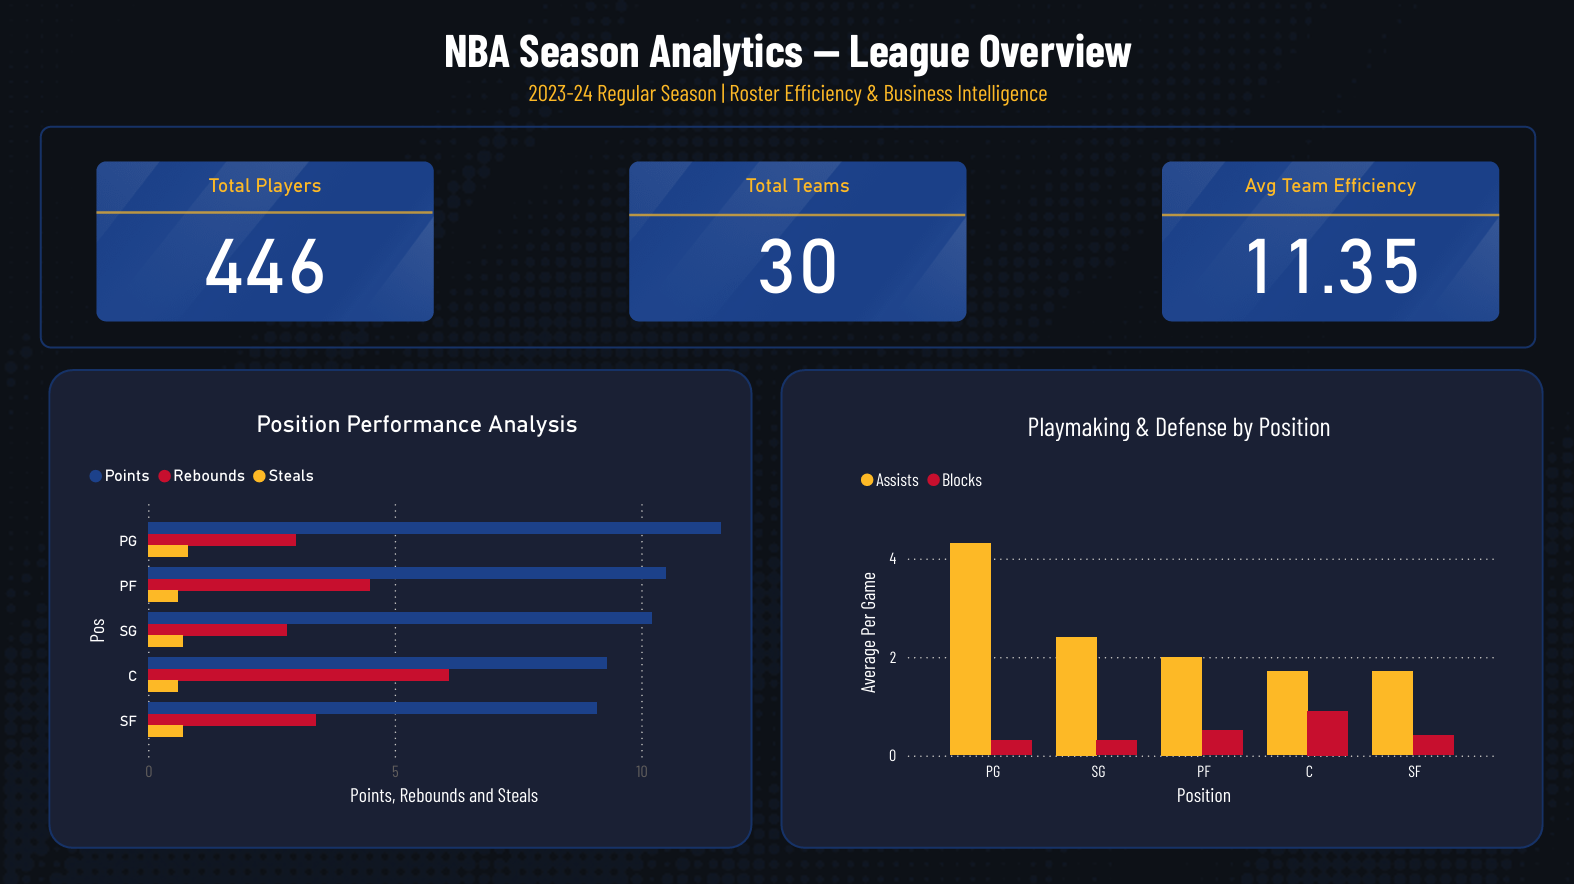

What the dashboard file says about the page in this screenshot:
{"tool":"powerbi","page":{"name":"League Overview","canvas":[1280,720],"ordinal":0},"visuals":[{"type":"image","box":[0,0,1280,720],"z":0},{"type":"shape","title":"Frame","box":[32.4,101.9,1215.1,180.9],"z":2500},{"type":"cardVisual","title":"Card","fields":{"Data":["Sum(vw_position_dominance.player_count)"]},"box":[73,126,284.4,140.4],"z":3000},{"type":"cardVisual","title":"Card","fields":{"Data":["Avg(vw_dead_weight.efficiency)"]},"box":[939,126,284.4,140.4],"z":4000},{"type":"cardVisual","title":"Card","fields":{"Data":["vw_team_offensive_output.Total Teams"]},"box":[505.7,126,284.4,140.4],"z":5000},{"type":"shape","title":"Frame","box":[38.9,299.7,572.6,390.4],"z":8000},{"type":"shape","title":"Frame","box":[634,299.7,620.1,390.4],"z":9125},{"type":"clusteredBarChart","title":"Position Performance Analysis","fields":{"Category":["vw_position_dominance.Pos"],"Y":["Sum(vw_position_dominance.avg_points)","Sum(vw_position_dominance.avg_rebounds)","Sum(vw_position_dominance.avg_steals)"]},"box":[65.6,332.5,545.9,327.3],"z":9250},{"type":"clusteredColumnChart","title":"Playmaking & Defense by Position","fields":{"Category":["vw_position_dominance.Pos"],"Y":["Sum(vw_position_dominance.avg_assists)","Sum(vw_position_dominance.avg_blocks)"]},"box":[692.7,332.5,530.3,327.3],"z":9500},{"type":"shape","box":[511,122,273.3,104.7],"z":11000},{"type":"textbox","box":[341.1,12,597.8,77.6],"z":12000},{"type":"textbox","box":[407.2,58.5,465.6,43.1],"z":13000},{"type":"shape","box":[78,120,273.3,104.7],"z":14000},{"type":"shape","box":[944,122,274.2,104.8],"z":15000}]}

Visuals, with their boxes in screenshot pixels (x1, y1, x2, y2), scaled from the page's 1280x720 canvas onto the 1574x884 screenshot:
image: 0,0,1573,883
"Frame" shape: 40,125,1534,347
"Card" cardVisual: 90,155,439,327
"Card" cardVisual: 1155,155,1504,327
"Card" cardVisual: 622,155,972,327
"Frame" shape: 48,368,752,847
"Frame" shape: 780,368,1542,847
"Position Performance Analysis" clusteredBarChart: 81,408,752,810
"Playmaking & Defense by Position" clusteredColumnChart: 852,408,1504,810
shape: 628,150,964,278
textbox: 419,15,1155,110
textbox: 501,72,1073,125
shape: 96,147,432,276
shape: 1161,150,1498,278
